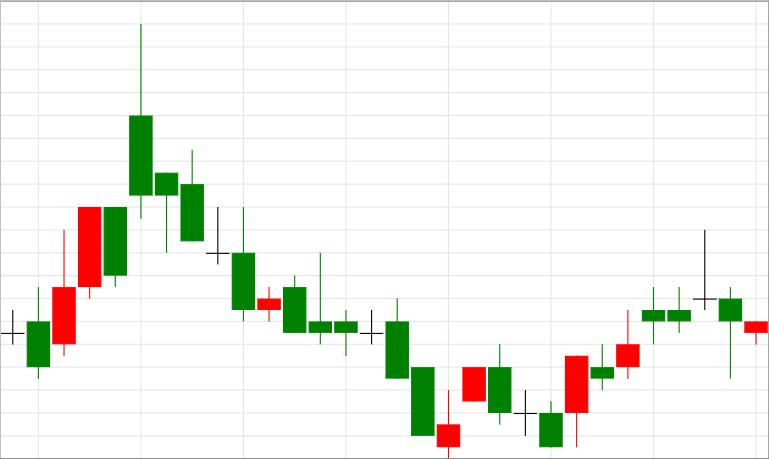inverse_hammer_rise: (283, 252, 460, 458)
